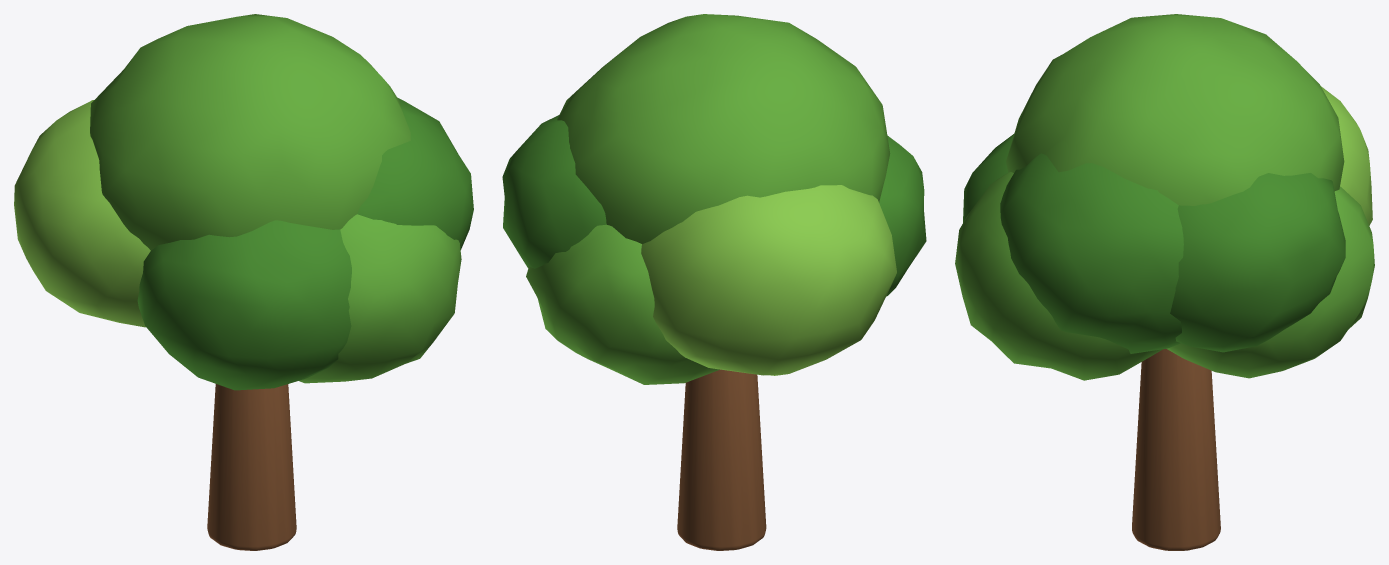
Rendered from Tree2.fbx.
The picture shows the model from 3 angles, left to right: view 1: azimuth 30°, elevation 25°; view 2: azimuth 150°, elevation 25°; view 3: azimuth 270°, elevation 25°; orthographic projection.
Visible parts, largest first — view 1: Tree2; view 2: Tree2; view 3: Tree2.
Part boxes in pixels (box(x1,y1,x2,y2)): Tree2: box(14, 14, 473, 550); Tree2: box(502, 14, 926, 550); Tree2: box(955, 14, 1374, 550).
Size of the model in its own units: 2.39 by 3.16 by 2.38.
Materials: 1 (1 with a texture image).
